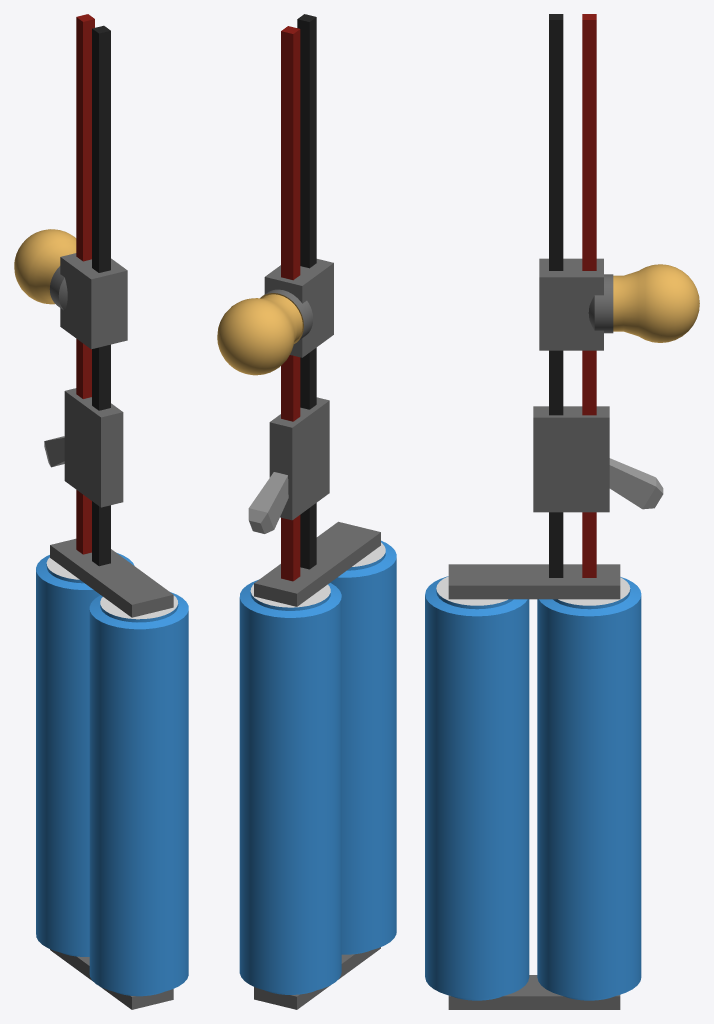
File: electro_scene_model_2.gltf
3 renders of one model, left to right at view 1: azimuth 30°, elevation 25°; view 2: azimuth 150°, elevation 25°; view 3: azimuth 270°, elevation 25°, orthographic. The views are drawn at different scales.
Visible parts, largest first — view 1: Цилиндр.001, Цилиндр, Куб.003, Куб.004, Куб.002, Куб.006, Куб, Сфера, Куб.001, Куб.005; view 2: Цилиндр, Цилиндр.001, Куб.002, Куб.003, Сфера, Куб.004, Куб, Куб.006, Куб.005, Куб.001; view 3: Цилиндр.001, Цилиндр, Куб.004, Сфера, Куб, Куб.002, Куб.003, Куб.006, Куб.001, Куб.005.
Boxes of the visible parts, x1,y1,x2,y2 form: Цилиндр.001: [89, 592, 188, 996]; Цилиндр: [36, 552, 134, 956]; Куб.003: [92, 25, 110, 566]; Куб.004: [64, 388, 123, 507]; Куб.002: [76, 14, 94, 554]; Куб.006: [60, 253, 127, 349]; Куб: [50, 538, 173, 617]; Сфера: [14, 229, 76, 310]; Куб.001: [50, 949, 173, 1009]; Куб.005: [44, 436, 64, 467]; Цилиндр: [239, 579, 341, 994]; Цилиндр.001: [330, 540, 396, 954]; Куб.002: [281, 26, 300, 581]; Куб.003: [297, 14, 316, 569]; Сфера: [217, 289, 313, 375]; Куб.004: [269, 397, 329, 520]; Куб: [254, 521, 380, 606]; Куб.006: [264, 259, 333, 357]; Куб.005: [248, 472, 288, 533]; Куб.001: [254, 947, 380, 1009]; Цилиндр.001: [425, 576, 529, 1000]; Цилиндр: [537, 577, 641, 1000]; Куб.004: [533, 406, 609, 512]; Сфера: [588, 264, 699, 342]; Куб: [448, 564, 620, 599]; Куб.002: [582, 14, 596, 577]; Куб.003: [549, 14, 563, 577]; Куб.006: [539, 258, 603, 350]; Куб.001: [448, 975, 620, 1009]; Куб.005: [609, 458, 663, 509].
Bounding box in the file's own units: 2 × 20.81 × 5.28.
